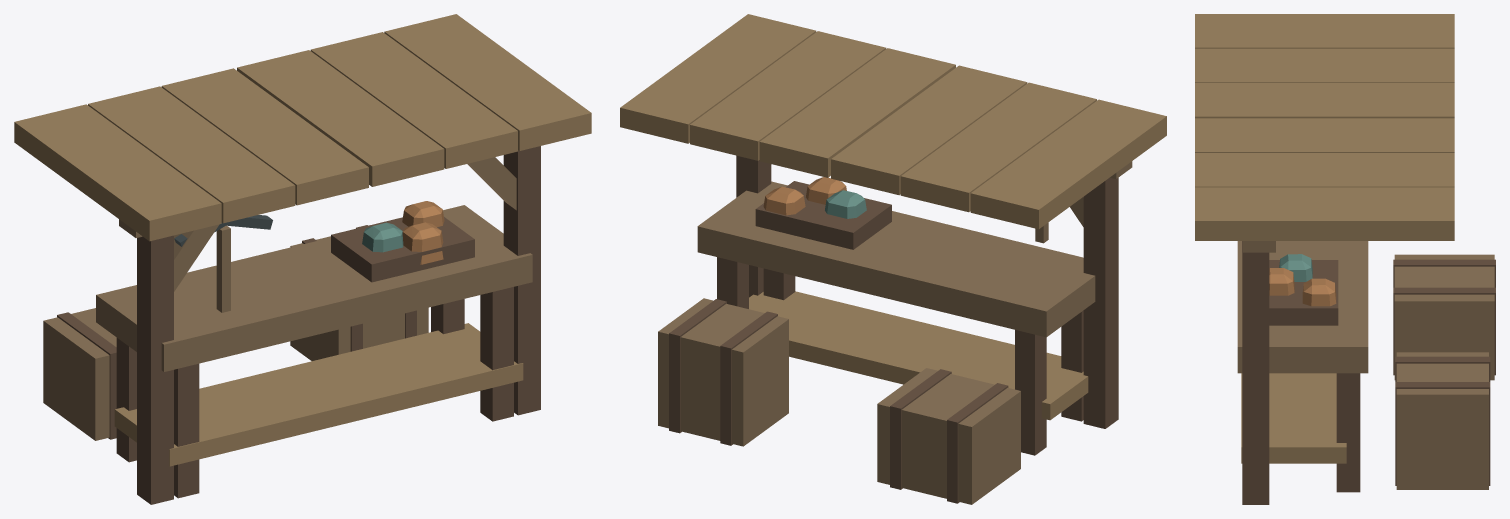
The model's file is Mine_Workstation.fbx.
3 renders of one model, left to right at view 1: azimuth 30°, elevation 25°; view 2: azimuth 150°, elevation 25°; view 3: azimuth 270°, elevation 25°, orthographic. The views are drawn at different scales.
Parts seen in each view (by area): view 1: Mine_Workstation; view 2: Mine_Workstation; view 3: Mine_Workstation.
Part boxes in pixels (x1,y1,x2,y2): Mine_Workstation: [14, 14, 591, 504]; Mine_Workstation: [620, 14, 1166, 504]; Mine_Workstation: [1195, 14, 1495, 504].
Bounding box in the file's own units: 2.7 × 1.81 × 1.66.
